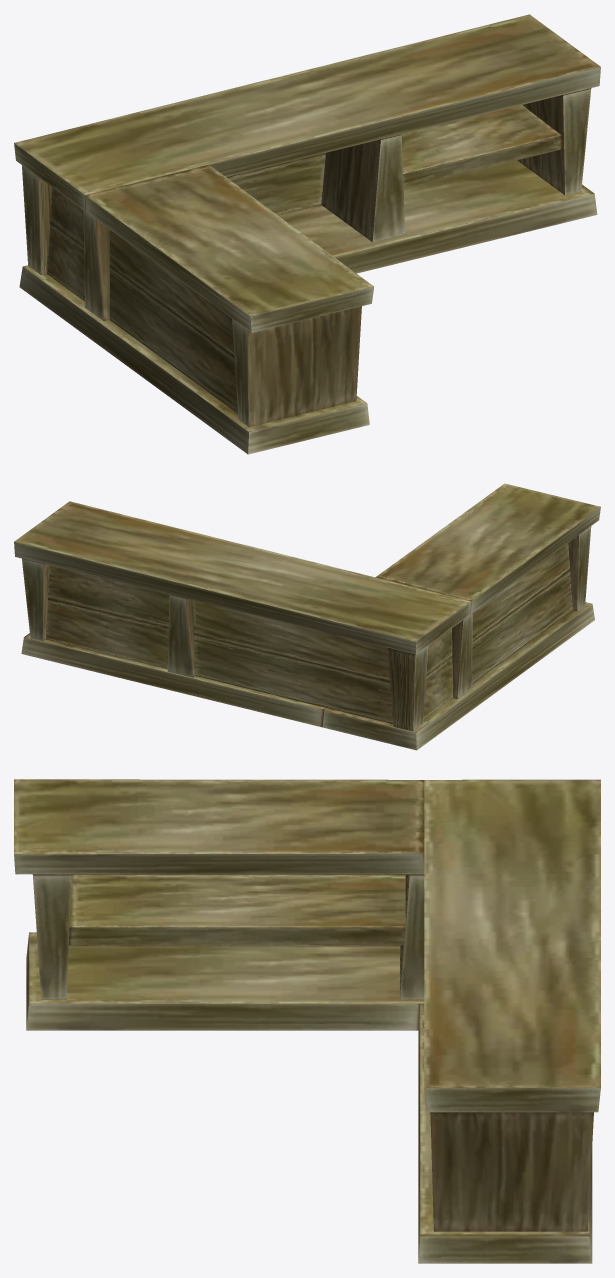
The model's file is shop-counter-b.glb.
3 renders of one model, top to bottom at view 1: azimuth 30°, elevation 25°; view 2: azimuth 150°, elevation 25°; view 3: azimuth 270°, elevation 25°, orthographic. The views are drawn at different scales.
Visible parts, largest first — view 1: shop-counter-b_Geoset0; view 2: shop-counter-b_Geoset0; view 3: shop-counter-b_Geoset0.
Part boxes in pixels (box(x1,y1,x2,y2)): shop-counter-b_Geoset0: box(14, 14, 600, 454); shop-counter-b_Geoset0: box(14, 483, 600, 750); shop-counter-b_Geoset0: box(14, 779, 600, 1263).
Bounding box in the file's own units: 4.85 × 1.3 × 3.86.
Materials: 1 (1 with a texture image).
